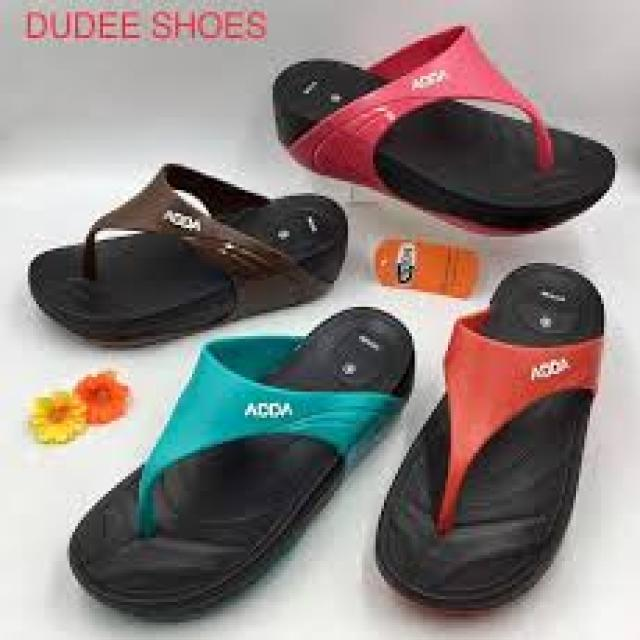shoe: (62, 307, 410, 614), (372, 259, 608, 619), (271, 20, 617, 237), (23, 162, 350, 346)
